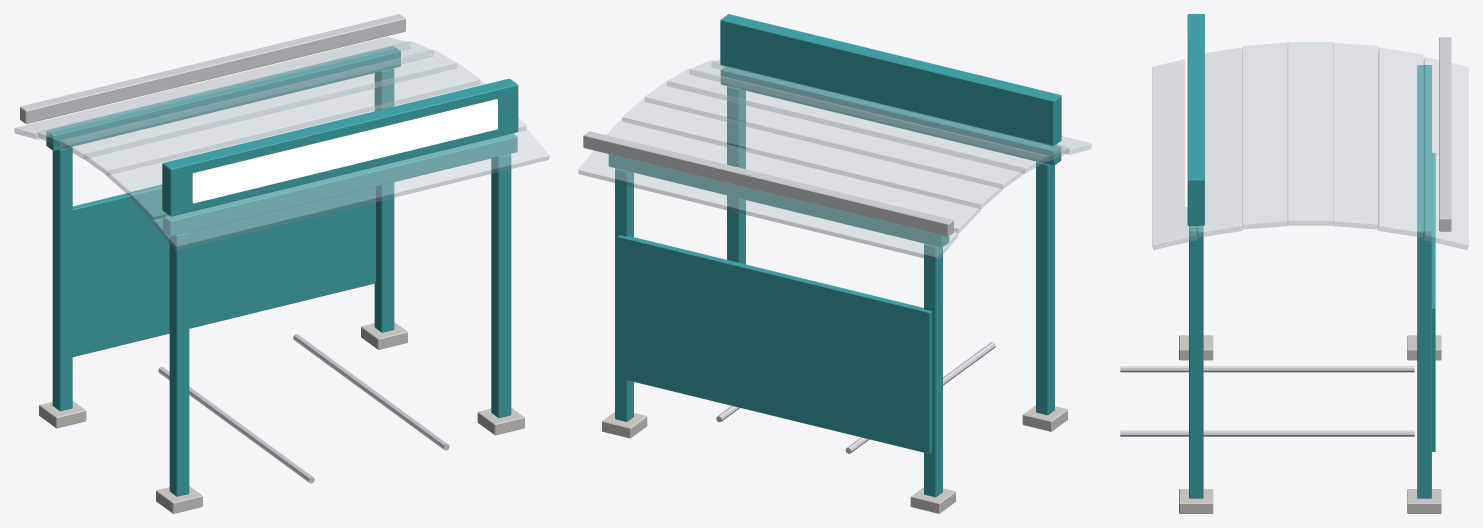
The model's file is motorway-services-and-truck-park-trolley-shelter-0ef9d609__35960.glb.
The picture shows the model from 3 angles, left to right: view 1: azimuth 30°, elevation 25°; view 2: azimuth 150°, elevation 25°; view 3: azimuth 270°, elevation 25°; orthographic projection. The views are drawn at different scales.
Parts seen in each view (by area): view 1: trolley-shelter; view 2: trolley-shelter; view 3: trolley-shelter.
Part boxes in pixels (x1,y1,x2,y2): trolley-shelter: (14, 14, 549, 513); trolley-shelter: (578, 14, 1091, 513); trolley-shelter: (1120, 14, 1468, 513).
Size of the model in its own units: 3.5 by 3 by 2.84.
